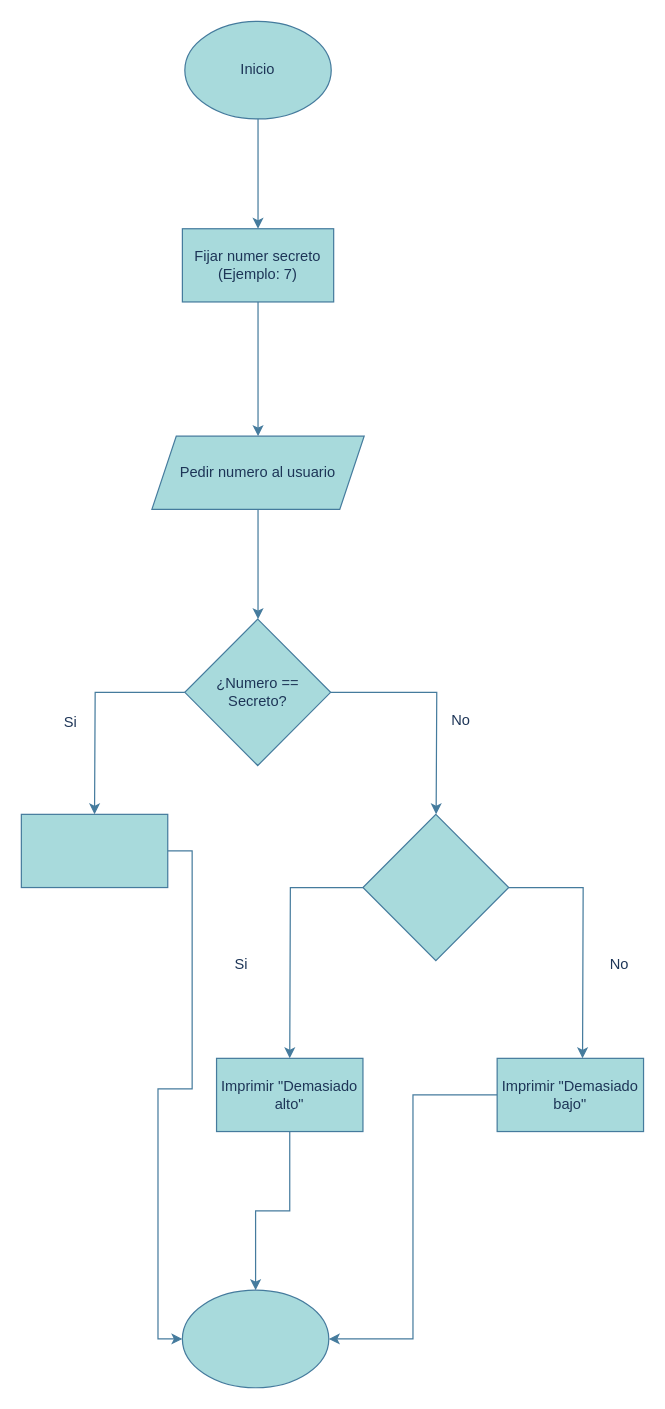
This 665x1409 diagram has some shape labels left out. Here are the shapes that lost their labels. From the top down, the centre of each, then its label:
point 94,850: Imprimir "Correcto adivinaste el numero"
point 435,887: ¿Numero > Secreto?
point 255,1338: Fin
